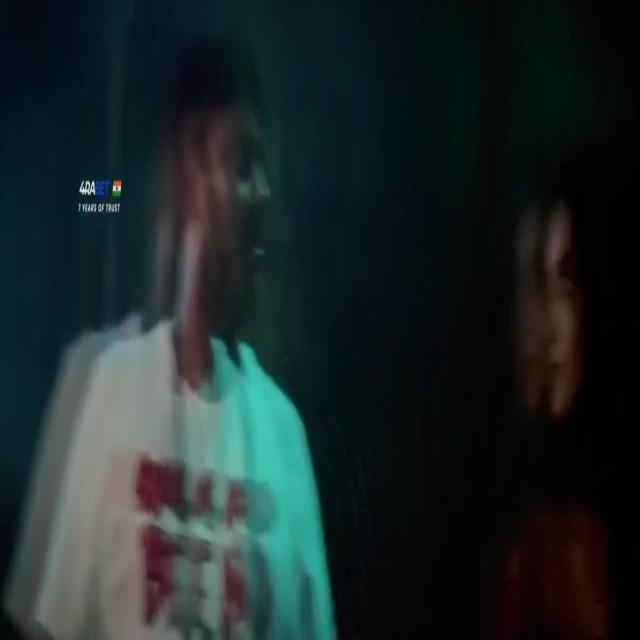4rabet: (75, 164, 131, 243)
